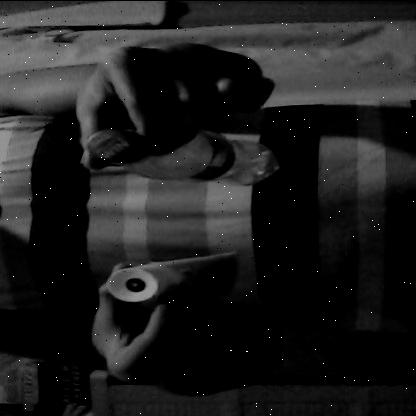Plastic Bottle: (84, 124, 285, 195)
